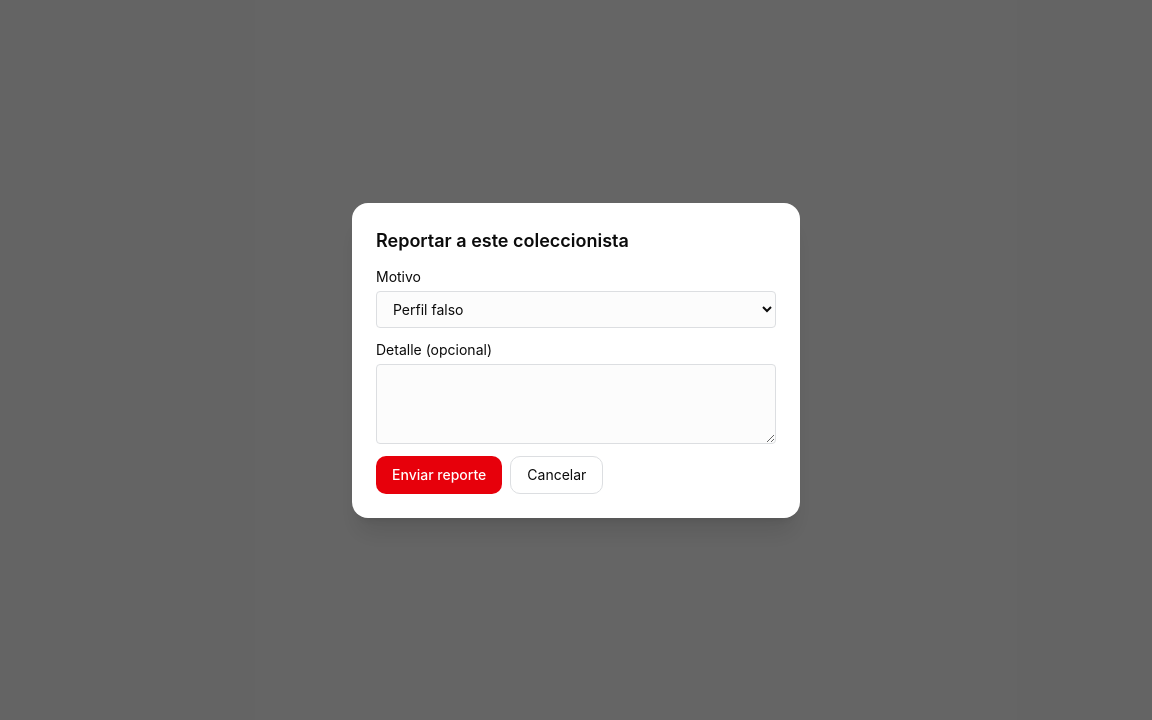
Test case: ReportModal › submits the report with the selected reason + detail
The width and height of the screenshot is (1152, 720).
Select "Acoso o trato abusivo" in the dropdown with test id "report-reason" at [576, 309], box [376,290,776,328]
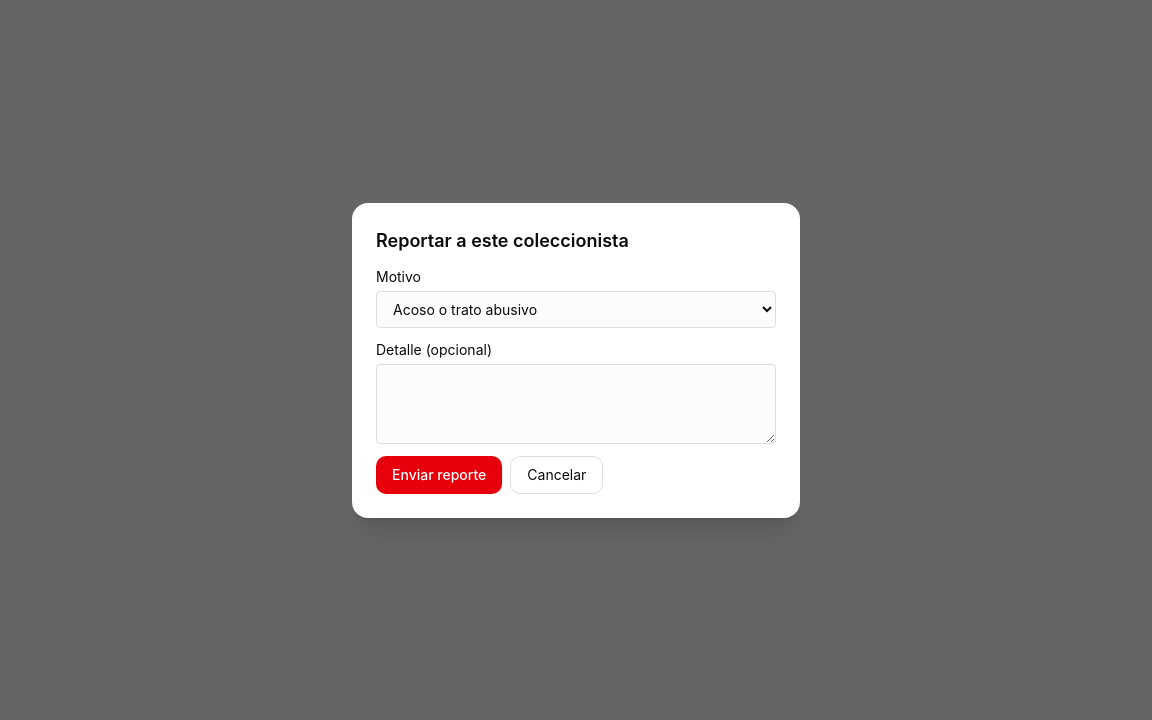
Type "mensajes agresivos" into the text box with test id "report-detail".
click(576, 404); type("mensajes agresivos")  # box [376,364,776,444]
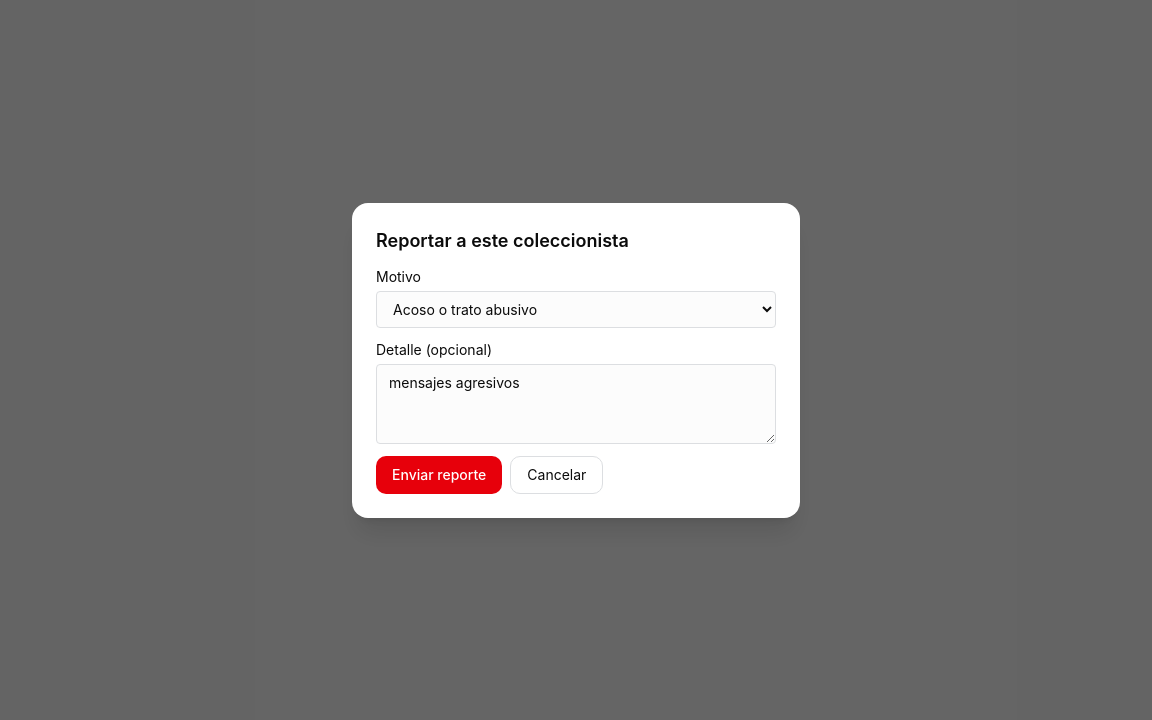
Click the button with test id "report-submit".
click(439, 474)  # box [376,456,502,494]
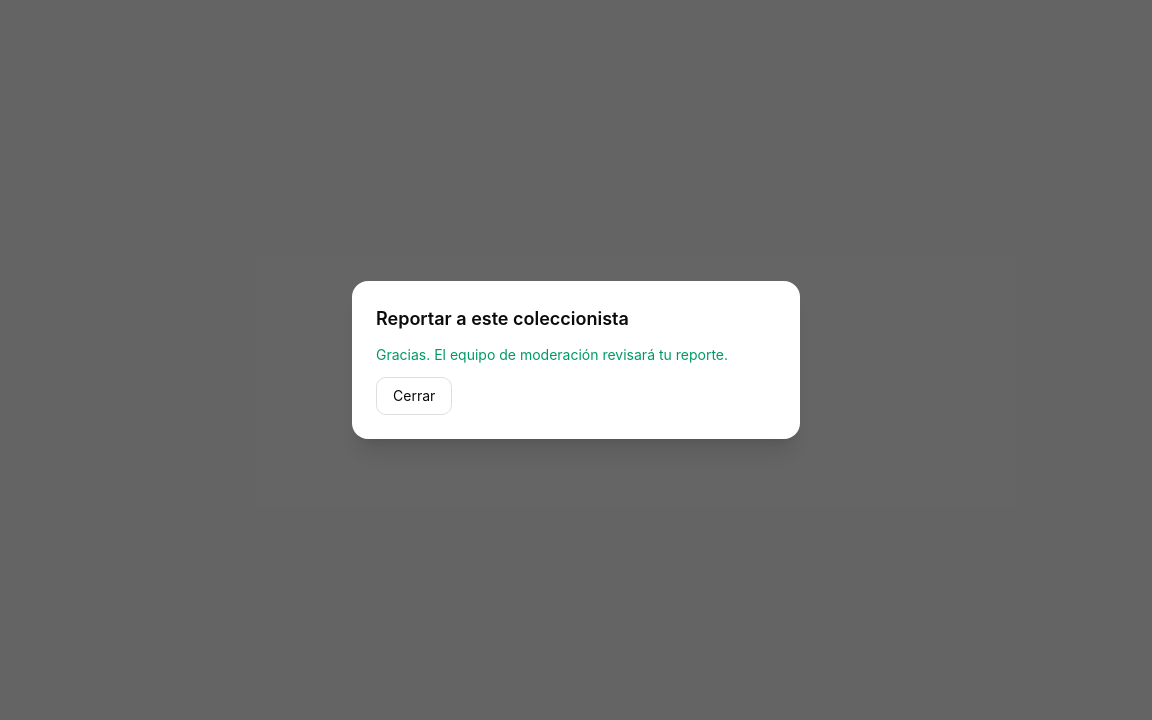
Result: the text "Gracias. El equipo de moderación revisará tu reporte." is shown at [376,345,776,365]
